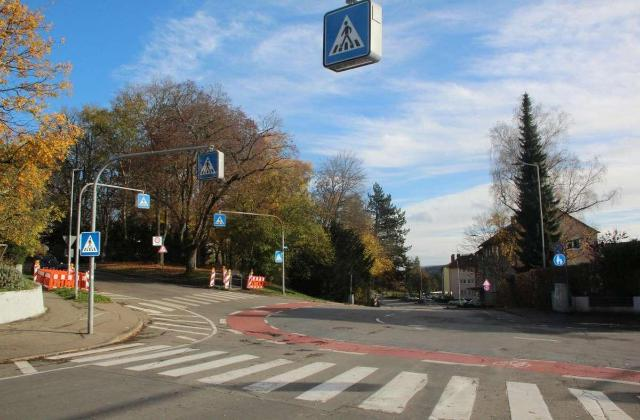crosswalk-sign: (323, 2, 375, 69), (198, 151, 225, 181), (81, 233, 102, 258), (214, 213, 231, 231), (139, 192, 154, 211)
